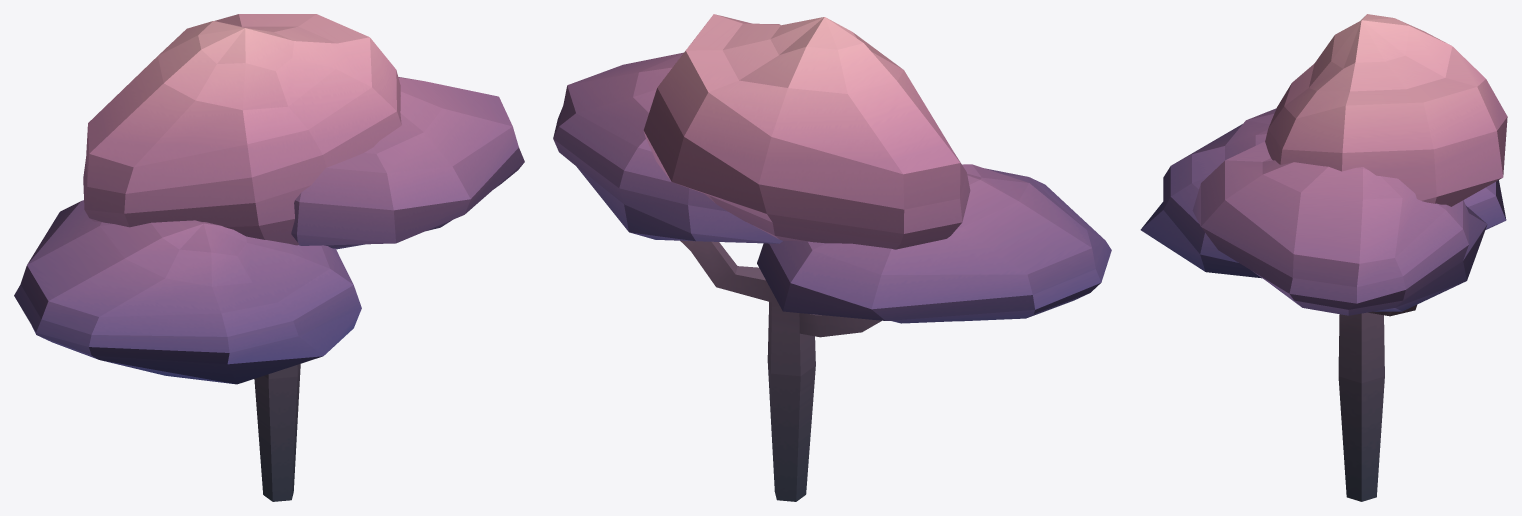
File: tree_2.fbx
The picture shows the model from 3 angles, left to right: view 1: azimuth 30°, elevation 25°; view 2: azimuth 150°, elevation 25°; view 3: azimuth 270°, elevation 25°; orthographic projection. The views are drawn at different scales.
Visible parts, largest first — view 1: pSphere4; view 2: pSphere4; view 3: pSphere4.
Boxes of the visible parts, x1,y1,x2,y2 form: pSphere4: [14, 14, 524, 501]; pSphere4: [553, 14, 1111, 501]; pSphere4: [1140, 14, 1507, 501].
Bounding box in the file's own units: 8.32 × 7.53 × 5.46.
Materials: 1 (1 with a texture image).
